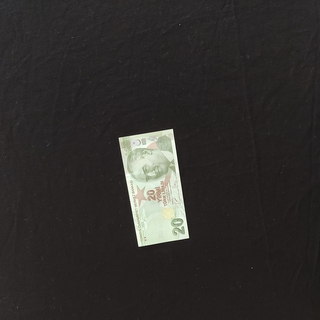20TLFront: (118, 128, 189, 247)
